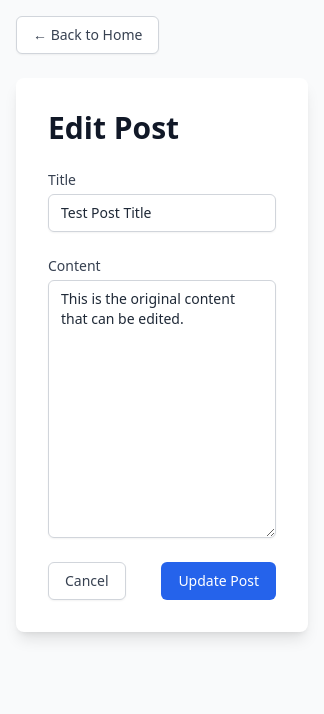
Test: PostEditPage › should show validation errors for empty fields
This screenshot has width=324, height=714.
Clear the field showing "Test Post Title" at (162, 213), box [48,194,276,232]
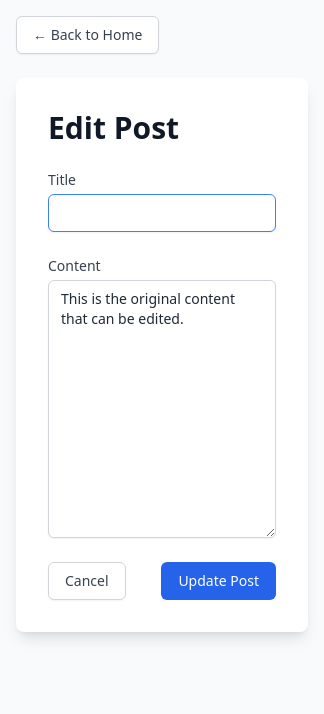
Clear the text box showing "This is the original content that can be edited." at (162, 409), box [48,280,276,538]
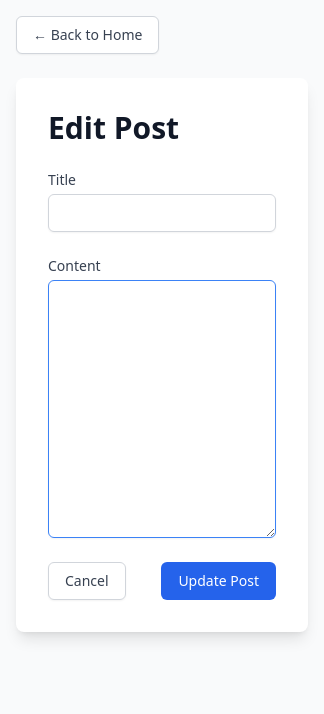
Click the button "Update Post".
click(219, 581)  # box [161,562,276,600]
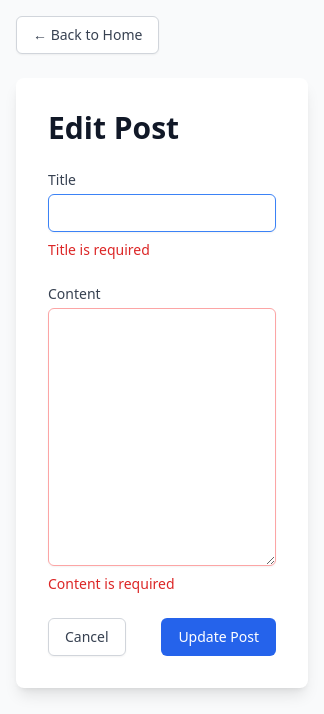
Expected: the text "Title is required" is shown, [48,240,150,259]
Expected: the text "Content is required" is shown, [48,574,174,593]
